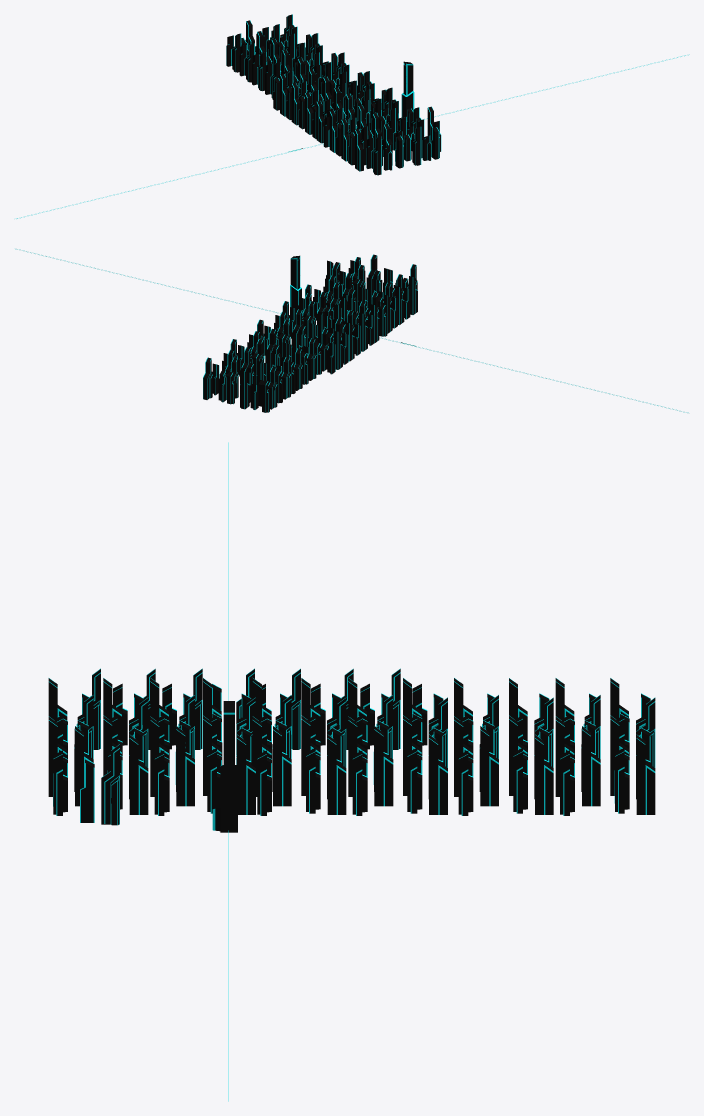
File: edificios.glb
The picture shows the model from 3 angles, top to bottom: view 1: azimuth 30°, elevation 25°; view 2: azimuth 150°, elevation 25°; view 3: azimuth 270°, elevation 25°; orthographic projection. The views are drawn at different scales.
Visible parts, largest first — view 1: Cube.144, Cube.038, Cube.155, Cube.145; view 2: Cube.144, Cube.103, Cube.121, Cube.102, Cube.097, Cube.120, Cube.143, Cube.096, Cube.152, Cube.145; view 3: Cube.144, Cube.079, Cube.055, Cube.103, Cube.044, Cube.127, Cube.019, Cube.090, Cube.159, Cube.066, Cube.114, Cube.138 (+1 smaller).
Part boxes in pixels (x1,y1,x2,y2): Cube.144: [401, 61, 414, 121]; Cube.038: [412, 126, 421, 165]; Cube.155: [291, 82, 299, 125]; Cube.145: [355, 129, 363, 171]; Cube.144: [290, 255, 301, 312]; Cube.103: [203, 357, 212, 399]; Cube.121: [307, 338, 316, 380]; Cube.102: [240, 370, 249, 409]; Cube.097: [268, 367, 277, 409]; Cube.120: [281, 357, 290, 399]; Cube.143: [294, 348, 302, 390]; Cube.096: [320, 329, 328, 371]; Cube.152: [334, 331, 342, 369]; Cube.145: [409, 276, 417, 314]; Cube.144: [212, 701, 237, 832]; Cube.079: [374, 726, 393, 806]; Cube.055: [327, 734, 346, 814]; Cube.103: [636, 735, 655, 814]; Cube.044: [129, 735, 148, 814]; Cube.127: [480, 726, 498, 806]; Cube.019: [176, 726, 194, 806]; Cube.090: [429, 734, 447, 814]; Cube.159: [101, 744, 119, 825]; Cube.066: [273, 726, 291, 806]; Cube.114: [582, 726, 600, 806]; Cube.138: [535, 734, 553, 814].
Size of the model in its own units: 1020 by 89.98 by 397.
